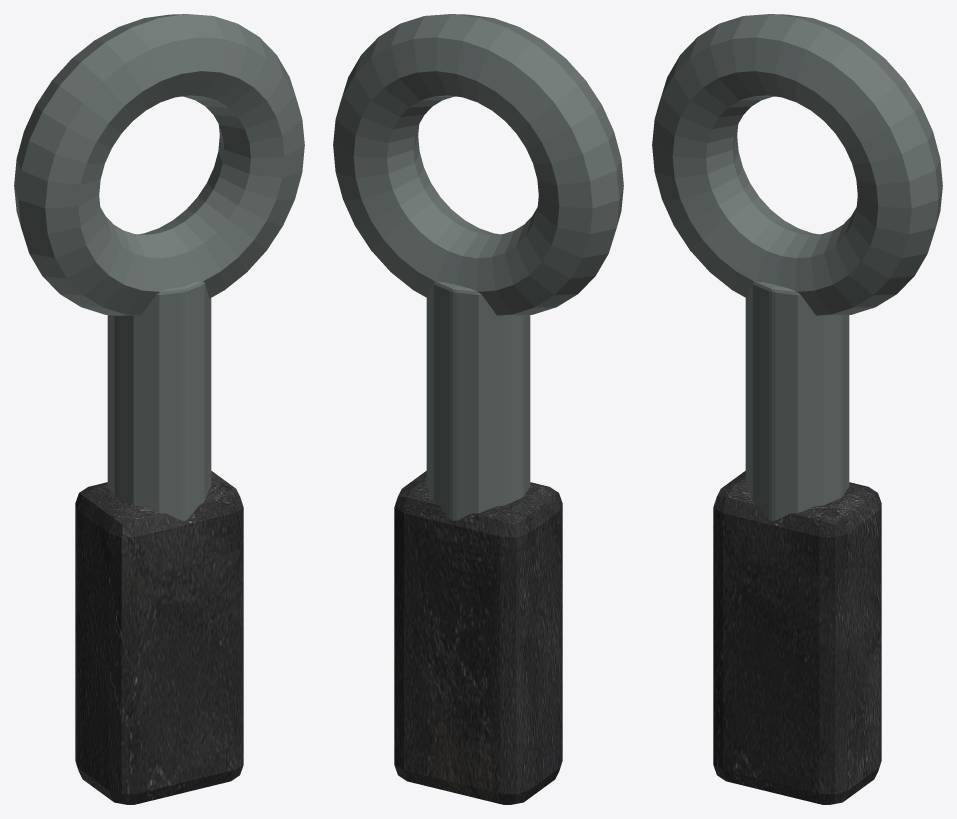
File: repair-tool.glb
3 renders of one model, left to right at view 1: azimuth 30°, elevation 25°; view 2: azimuth 150°, elevation 25°; view 3: azimuth 330°, elevation 25°, orthographic.
Visible parts, largest first — view 1: repair-tool__repair-tool__hardware, repair-tool__repair-tool__cloth-black; view 2: repair-tool__repair-tool__hardware, repair-tool__repair-tool__cloth-black; view 3: repair-tool__repair-tool__hardware, repair-tool__repair-tool__cloth-black.
Boxes of the visible parts, bbox=[...] form: repair-tool__repair-tool__hardware: bbox=[14, 14, 304, 520]; repair-tool__repair-tool__cloth-black: bbox=[75, 471, 243, 804]; repair-tool__repair-tool__hardware: bbox=[333, 14, 623, 520]; repair-tool__repair-tool__cloth-black: bbox=[394, 471, 562, 804]; repair-tool__repair-tool__hardware: bbox=[652, 14, 942, 520]; repair-tool__repair-tool__cloth-black: bbox=[713, 471, 881, 804].
Bounding box in the file's own units: 0.17 × 0.44 × 0.055.
2 materials, 1 textured.
